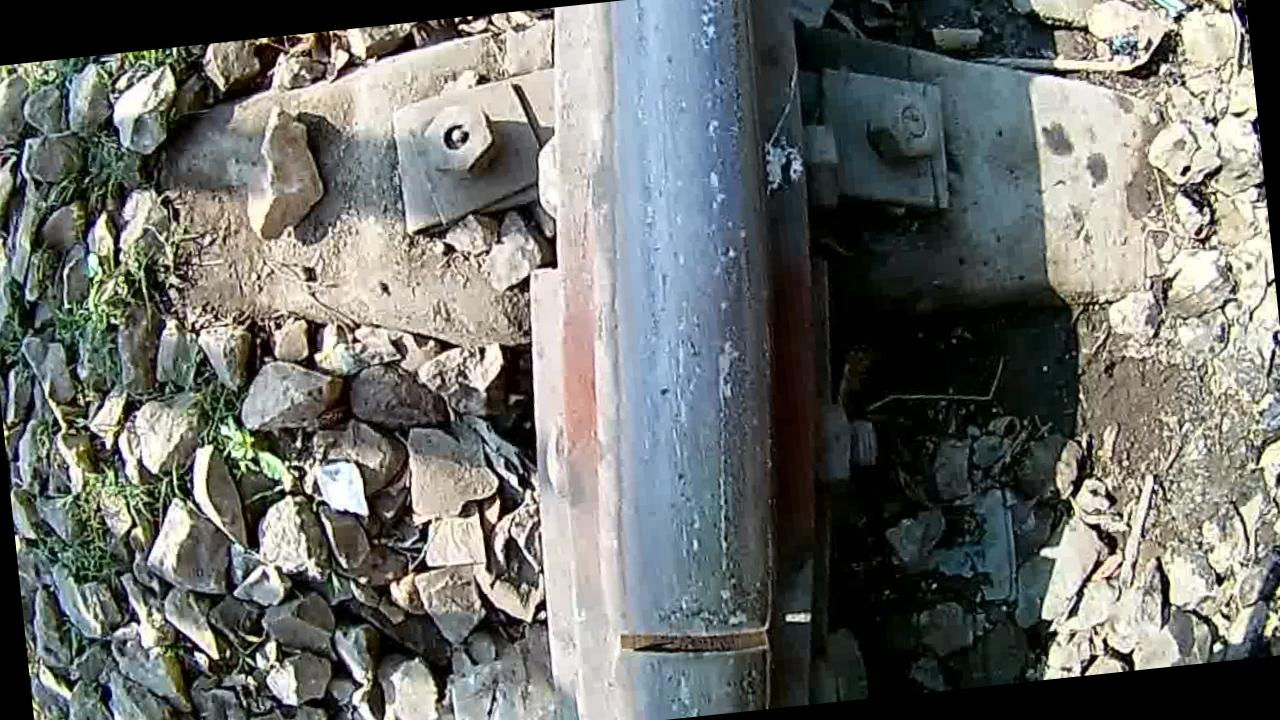clip_missing: (579, 0, 805, 592)
